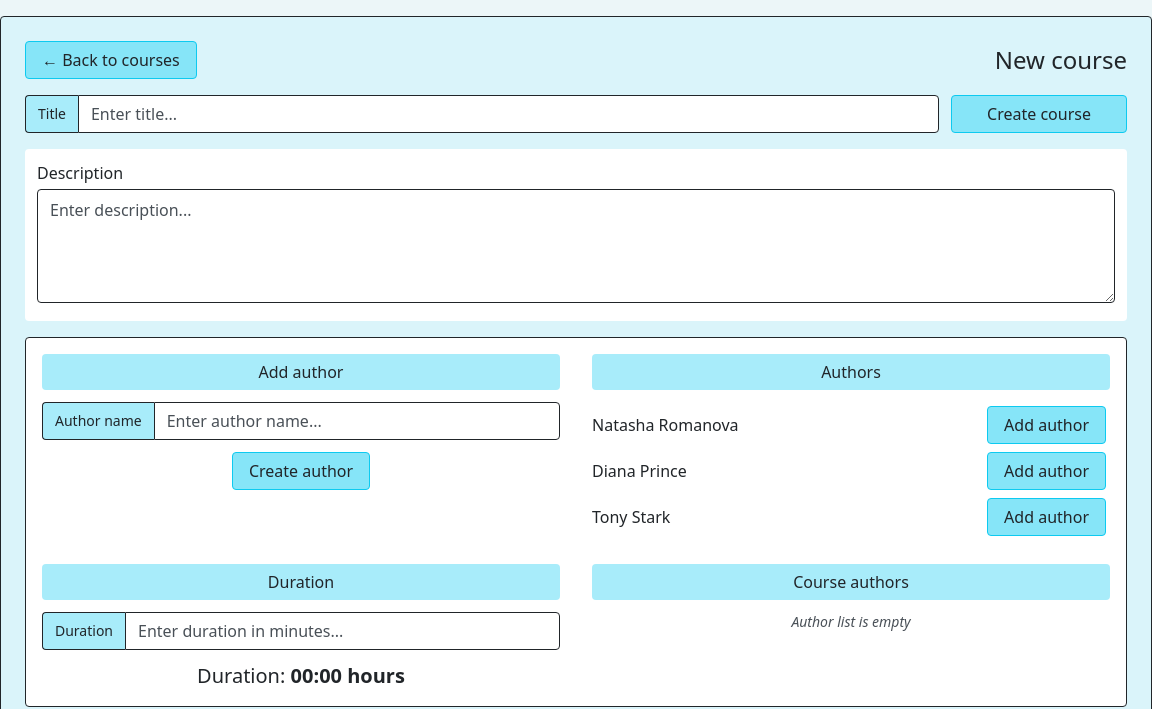
Test case: CourseForm › creates an author through the store with Create author
Step 1. Type "Hodor" into the field labelled "Author name" → (357, 421), box [154,402,560,440]
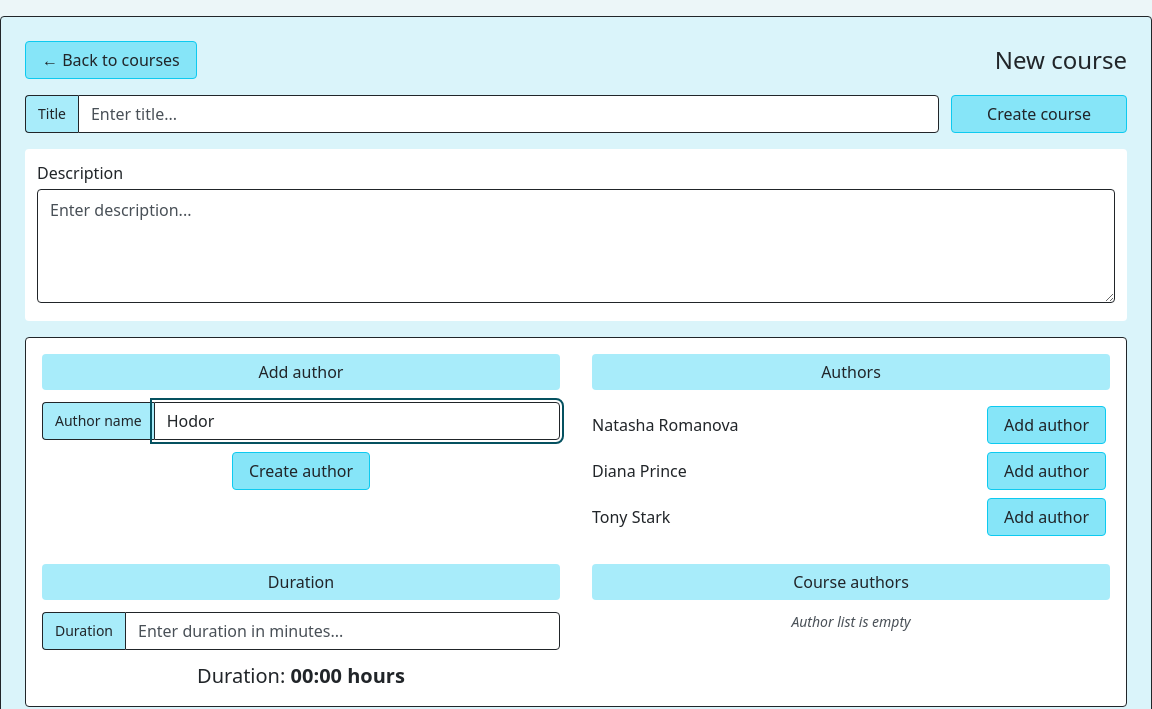
Step 2. Click the button "Create author" → click(301, 471), box [232,452,370,490]
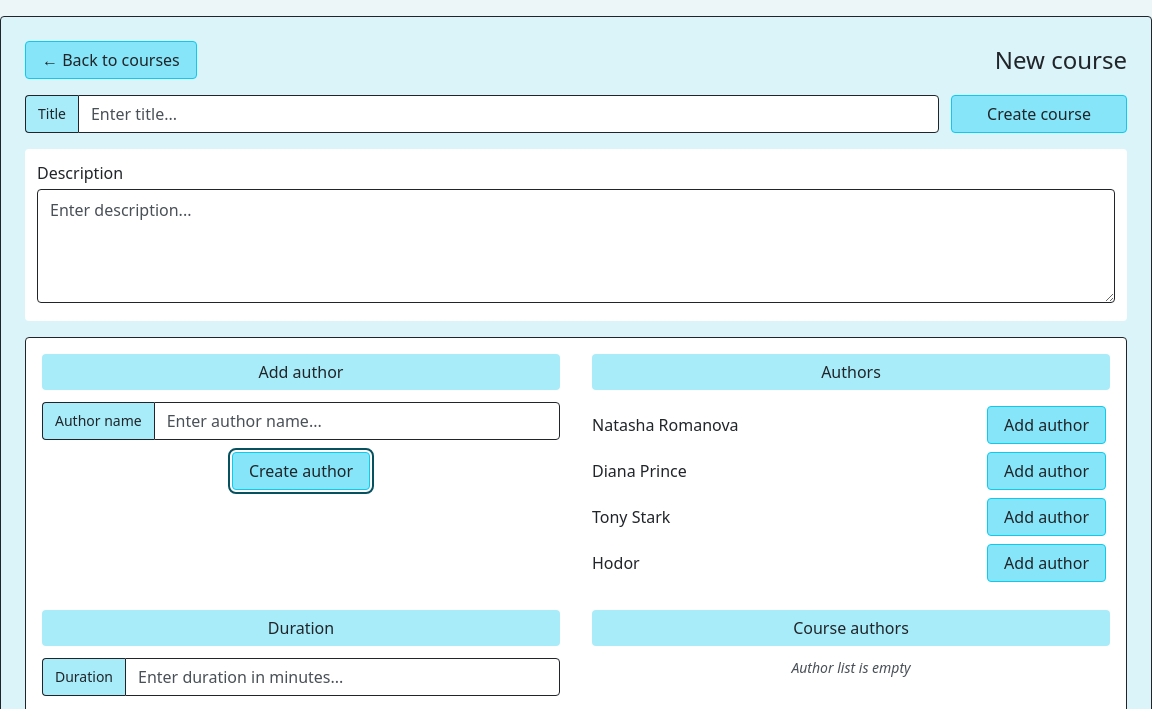
expect the text "Hodor" is shown: met, box [592,551,640,575]
expect the field labelled "Author name" is empty: met, box [154,402,560,440]
